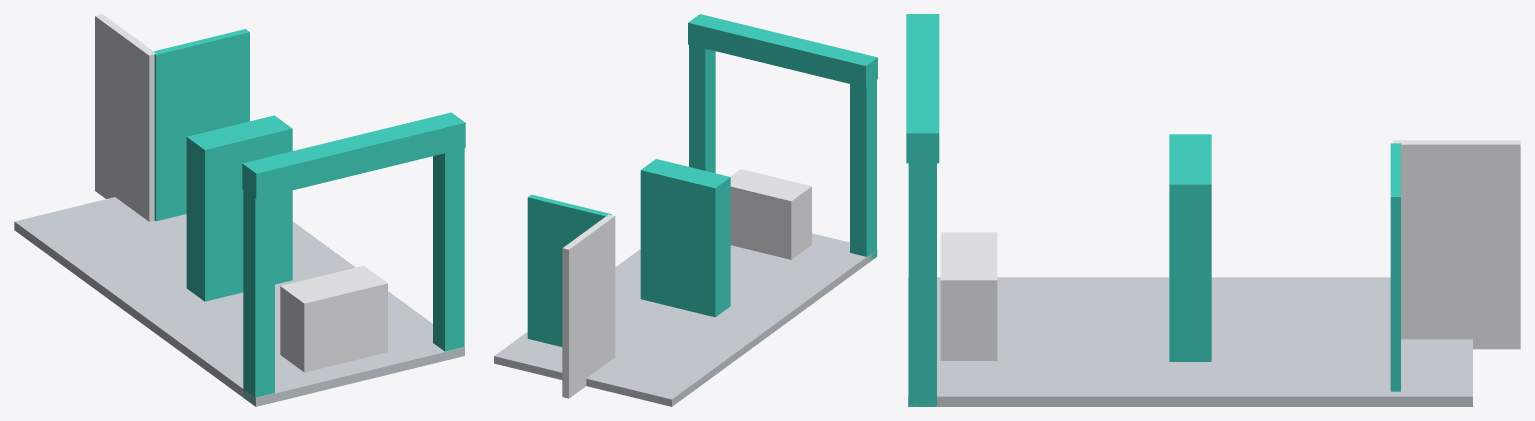
3 views of the same model, side by side, from view 1: azimuth 30°, elevation 25°; view 2: azimuth 150°, elevation 25°; view 3: azimuth 270°, elevation 25° (orthographic). The views are drawn at different scales.
Parts seen in each view (by area): view 1: Exhibition Booth Concept; view 2: Exhibition Booth Concept; view 3: Exhibition Booth Concept.
Part boxes in pixels (x1,y1,x2,y2): Exhibition Booth Concept: (14, 14, 465, 406); Exhibition Booth Concept: (494, 14, 877, 406); Exhibition Booth Concept: (906, 14, 1520, 406).
Size of the model in its own units: 3 by 3.2 by 6.52.
